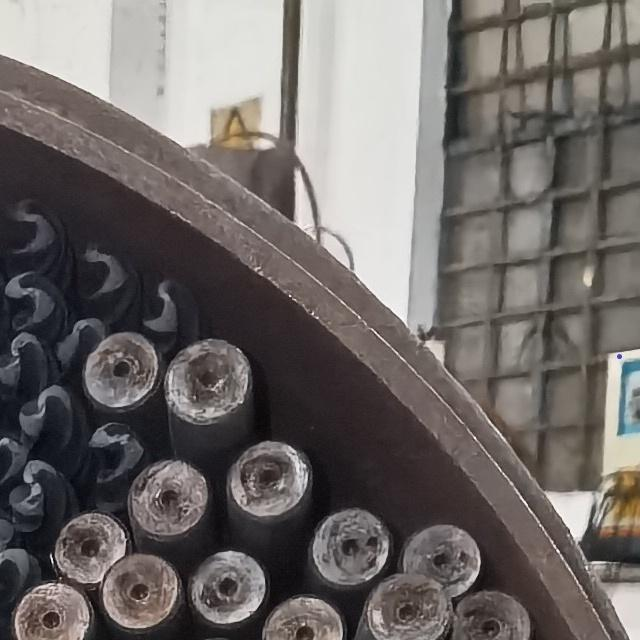tool: (164, 336, 252, 431), (227, 439, 313, 525), (304, 506, 393, 588), (99, 552, 183, 638), (184, 548, 264, 632), (357, 571, 454, 637), (130, 460, 209, 537), (402, 524, 482, 594), (52, 515, 128, 585), (3, 582, 91, 640), (451, 591, 533, 640), (266, 593, 346, 640)
tool_b: (83, 331, 159, 411), (8, 458, 73, 530), (4, 194, 61, 264), (80, 238, 132, 307), (89, 421, 145, 485), (0, 329, 54, 392), (20, 386, 76, 446), (3, 272, 59, 332), (140, 277, 191, 335), (57, 316, 105, 371), (0, 542, 42, 598), (1, 430, 27, 482)
